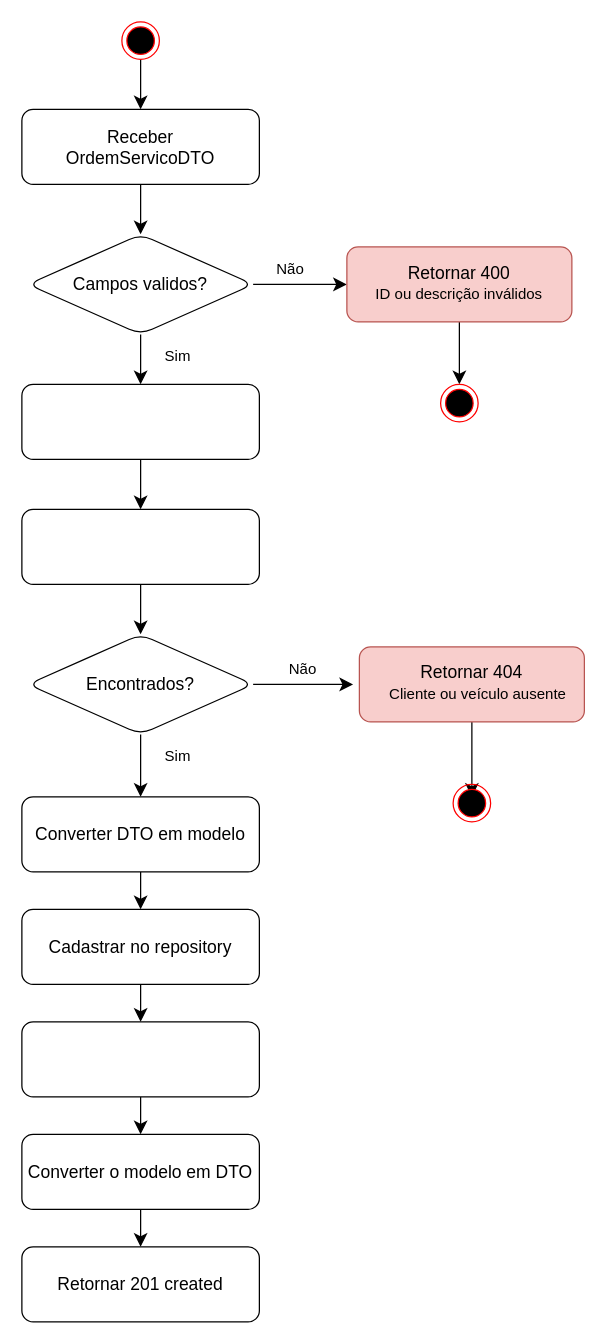
This 606x1344 diagram has some shape labels left out. The shapes that lost their labels are listed below. From the top down, each one's box as (x1, y1, x2, y2) in pixels, then its label:
(21, 383, 259, 459): Definir status padrão
(21, 508, 259, 584): Buscar cliente e veículo
(21, 1021, 259, 1097): Vincular cliente e veículo
